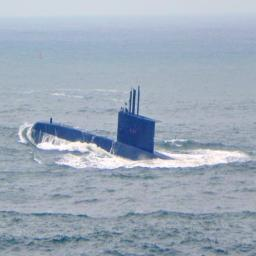submarine: (28, 79, 179, 161)
